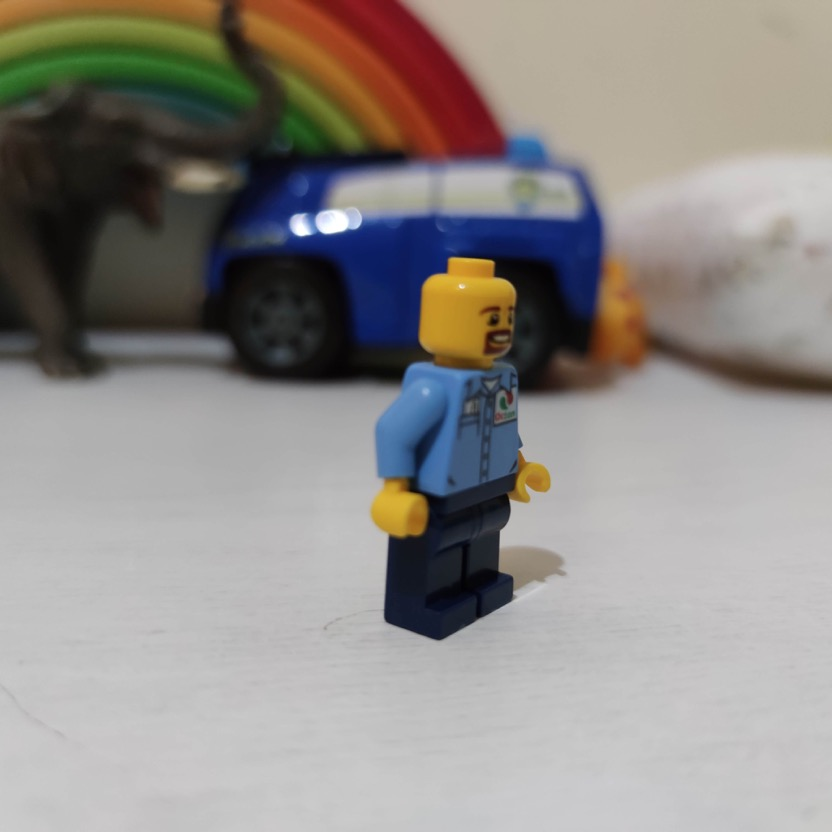lego: (370, 255, 552, 644)
